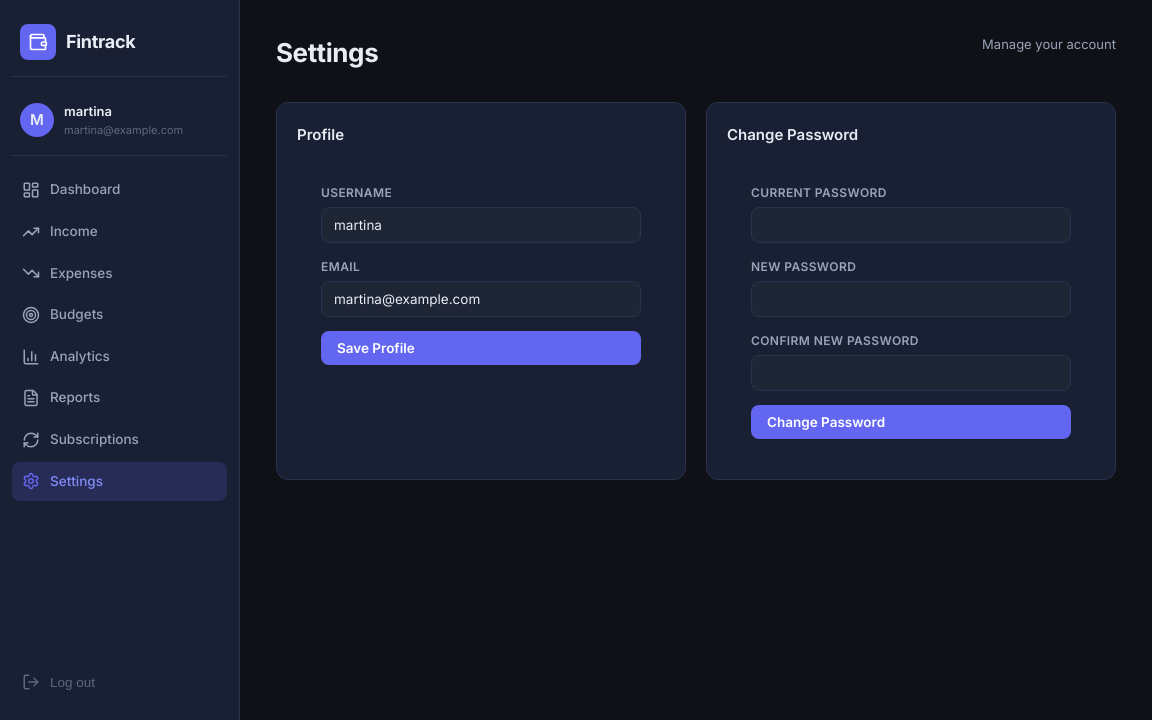
password › shows the server error for a wrong current password
The width and height of the screenshot is (1152, 720).
Check: the field below "Username" holds "martina", box [321,207,641,243]
Type "wrong" into the password field below "Current Password" at (911, 225), box [751,207,1071,243]
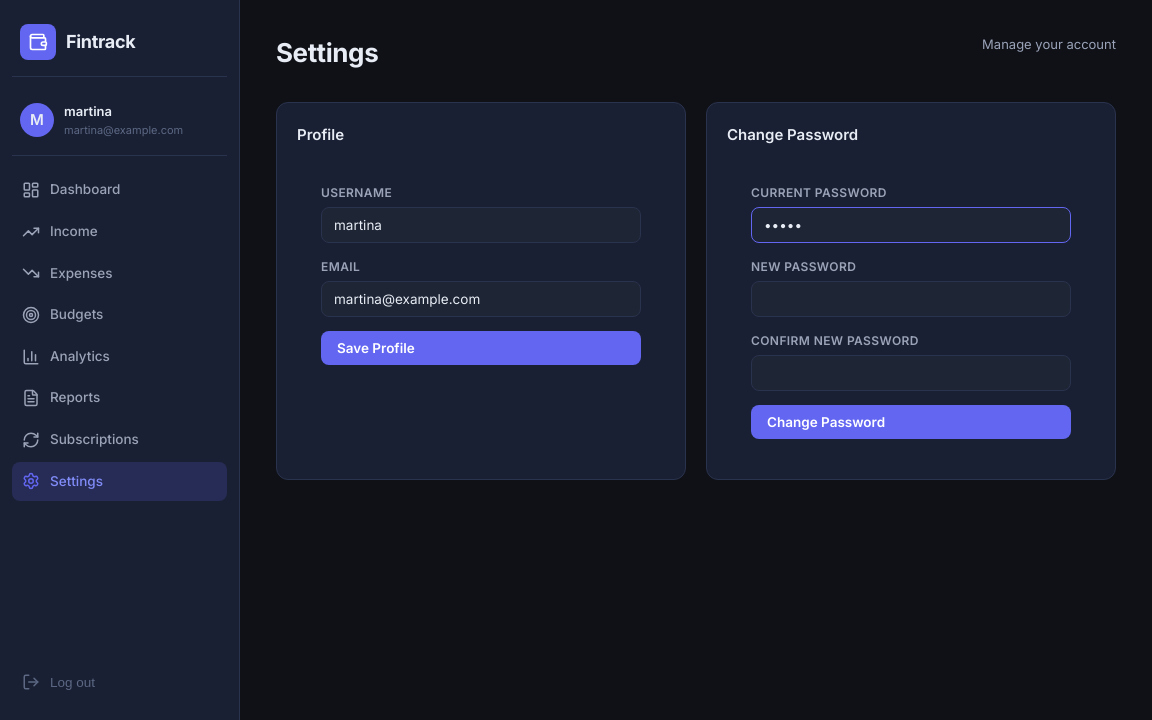
Type "new-pw-1" into the 2nd password field at (911, 299), box [751,281,1071,317]
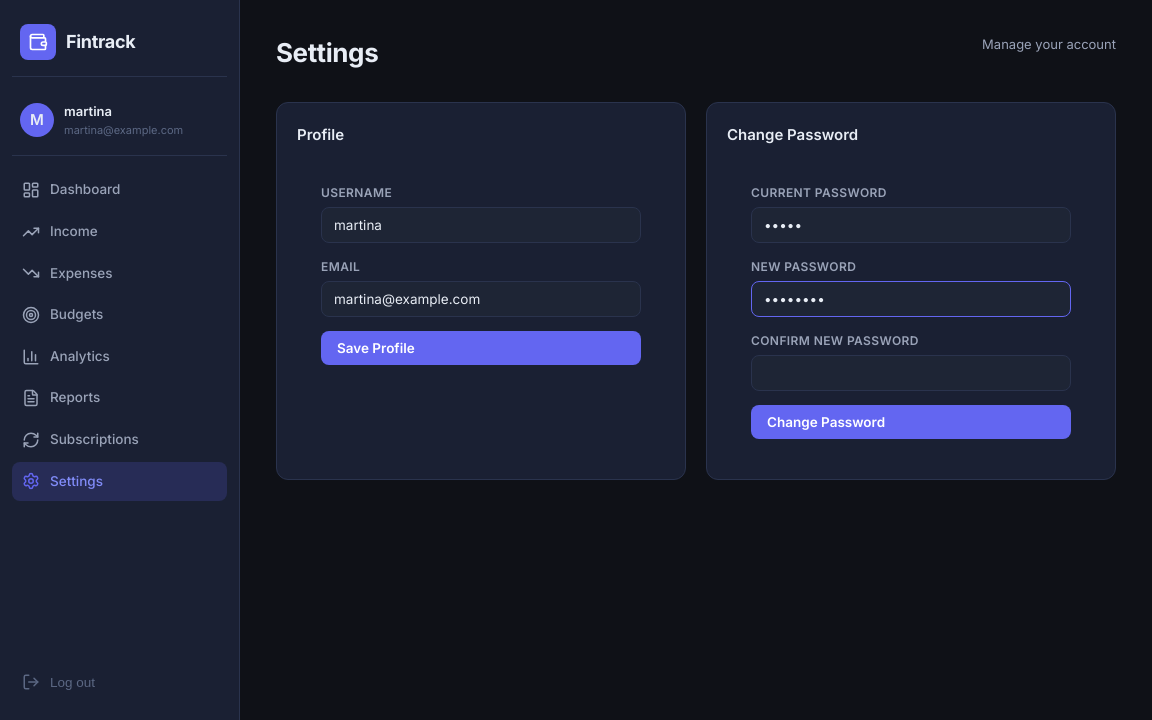
Type "new-pw-1" into the password field below "Confirm New Password" at (911, 373), box [751,355,1071,391]
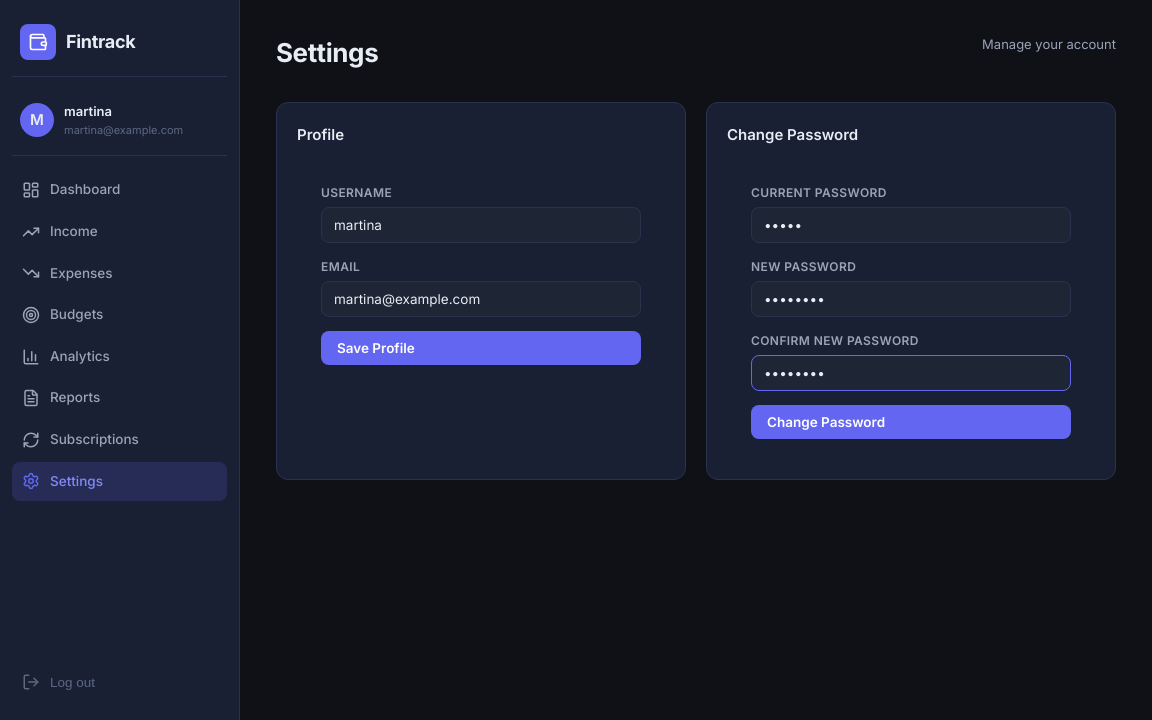
Click the button "Change Password" at (826, 422), box [751,405,1071,439]
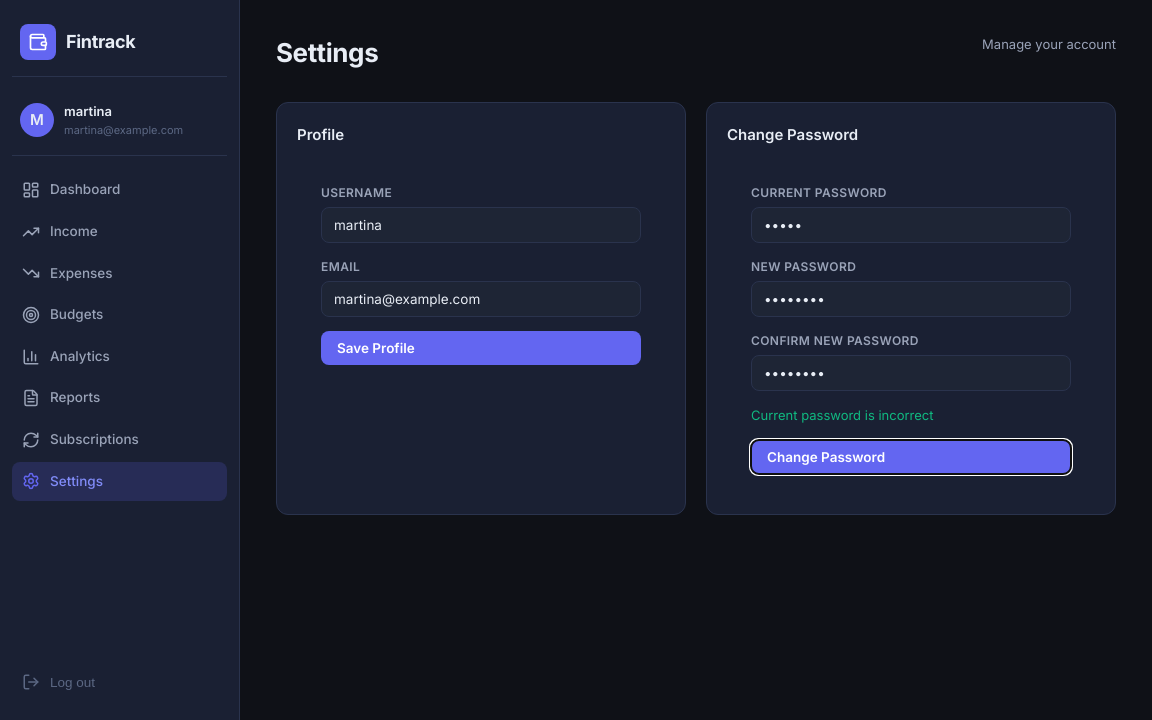
Check: the text "Current password is incorrect" is shown, box [751,407,934,423]
